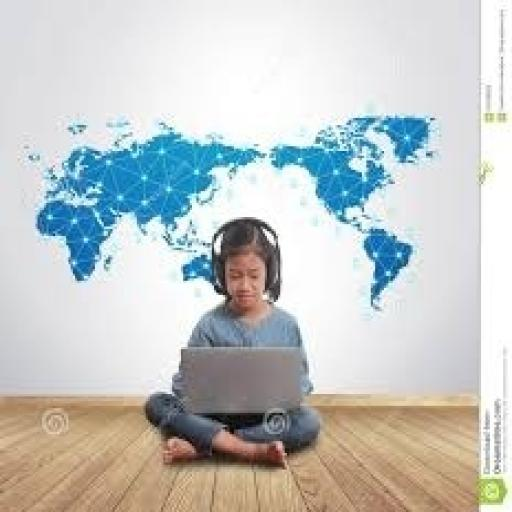using_laptop: (174, 344, 304, 418)
